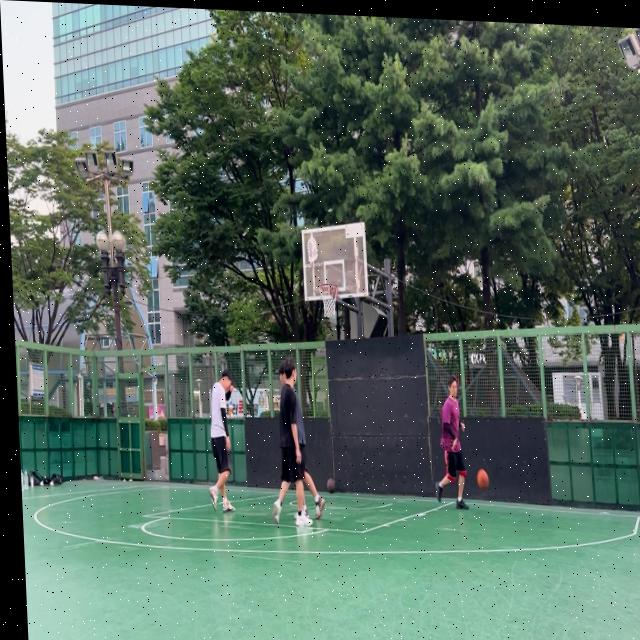basketball: (477, 468, 490, 491), (327, 478, 336, 494)
hoop: (318, 282, 340, 319)
